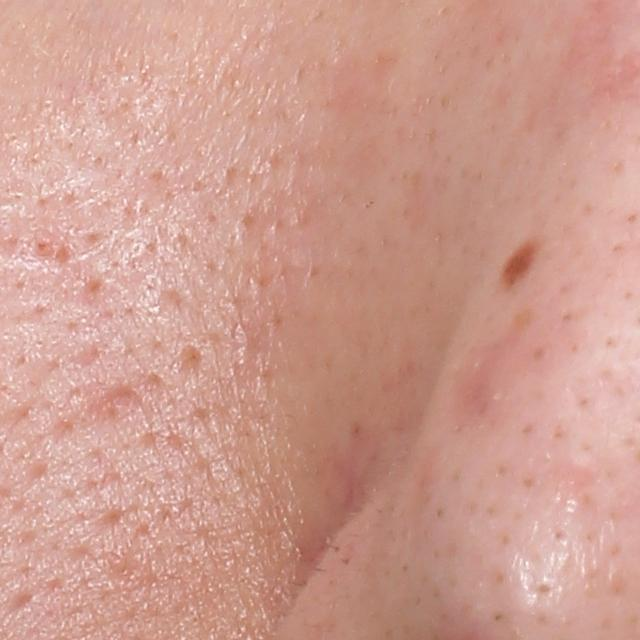atrophic_scar: (78, 388, 144, 427), (177, 340, 209, 382)
nevus: (498, 235, 541, 291)
